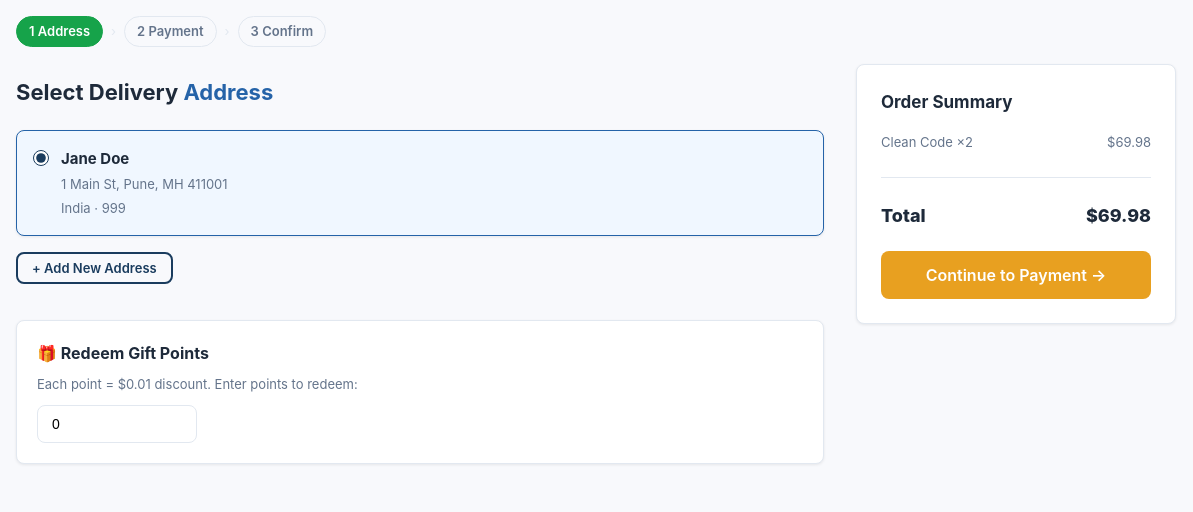
Test: CheckoutPage › applies gift points: $0.01 per point, never below zero
In the number field with placeholder "0": (117, 424) [37,405,197,443], type "500"
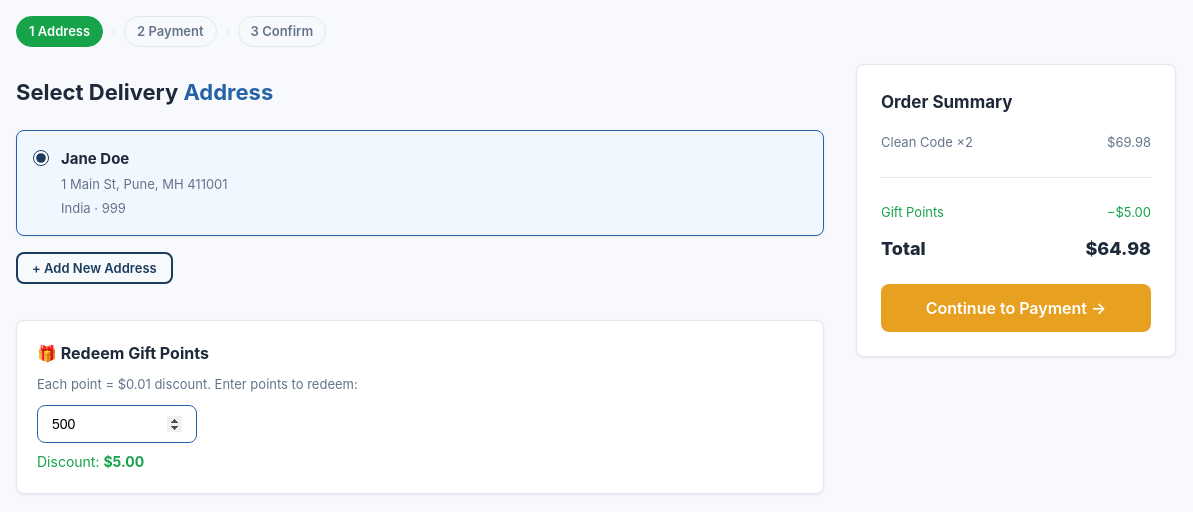
Expected: the text "−$5.00" is shown, [1107,202,1151,223]
Expected: the text "$64.98" is shown, [1086,235,1151,264]
Replace the text in the number field with placeholder "0" with "99999": (117, 424) [37,405,197,443]
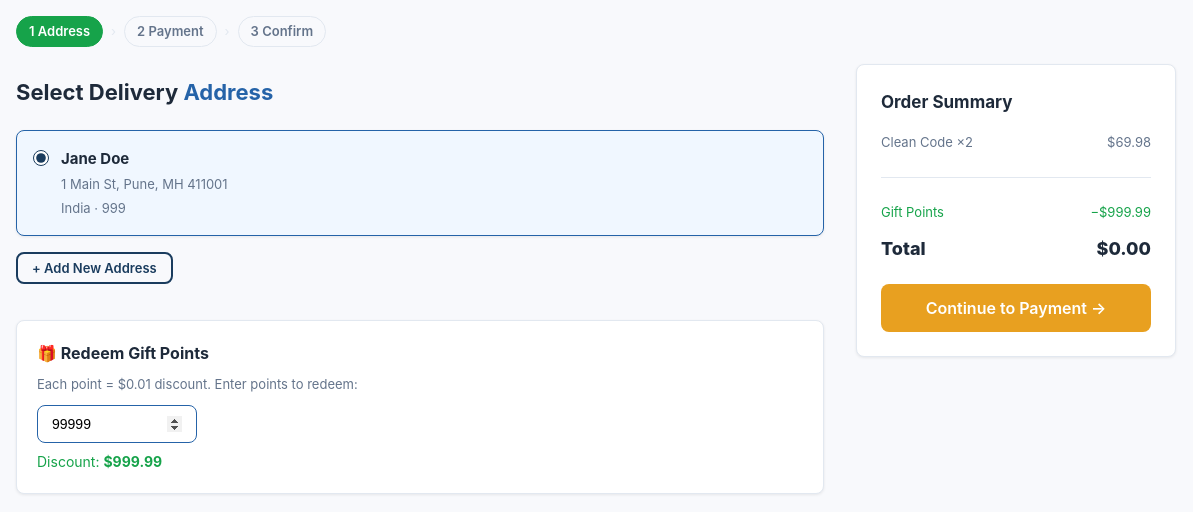
Expected: the text "$0.00" is shown, [1096,235,1151,264]
